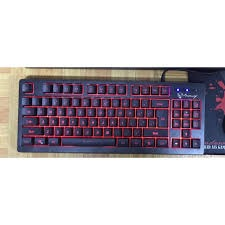keyboard: (13, 71, 210, 160)
